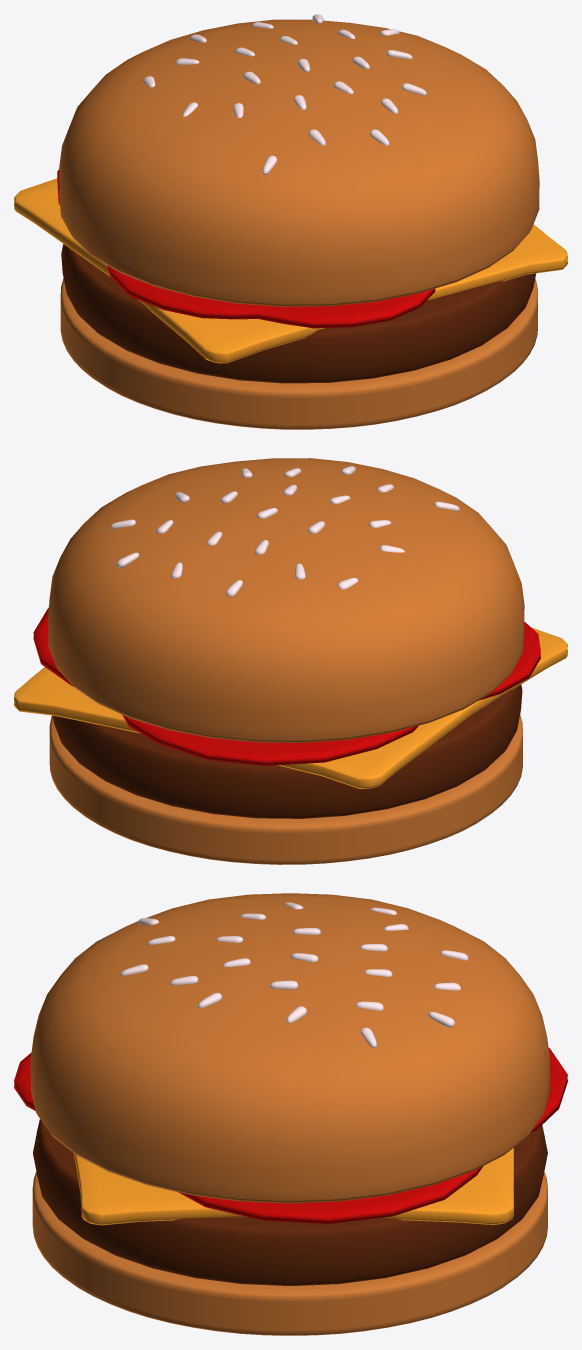
File: BURGER.fbx
3 views of the same model, one above another, from view 1: azimuth 30°, elevation 25°; view 2: azimuth 150°, elevation 25°; view 3: azimuth 270°, elevation 25° (orthographic). The views are drawn at different scales.
Visible parts, largest first — view 1: burger; view 2: burger; view 3: burger.
Part boxes in pixels (bbox=[...]): burger: bbox=[14, 14, 567, 429]; burger: bbox=[14, 458, 567, 864]; burger: bbox=[14, 893, 567, 1335].
Bounding box in the file's own units: 117 × 68.13 × 121.
